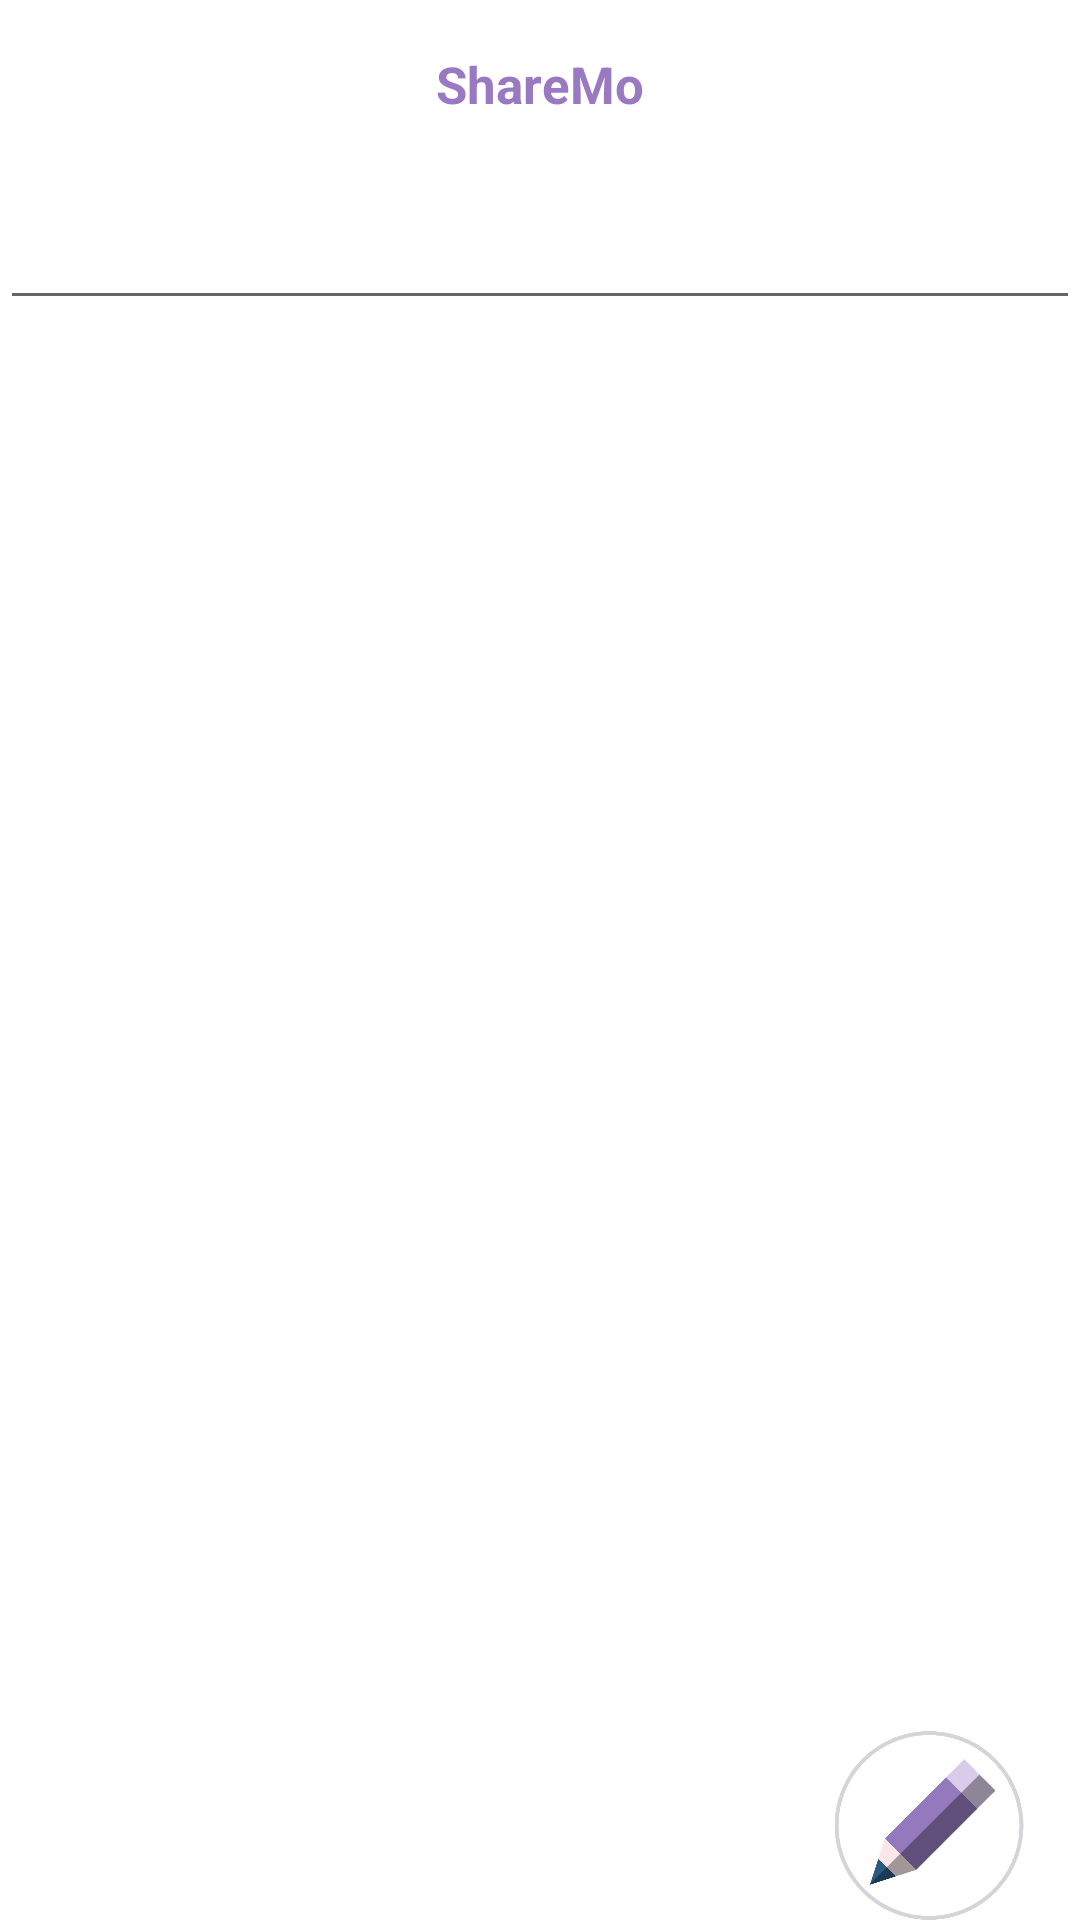

Icons on this 1080x1920 Android screen, each with the point to tap as (x=x, y=y):
write: (x=929, y=1825)
